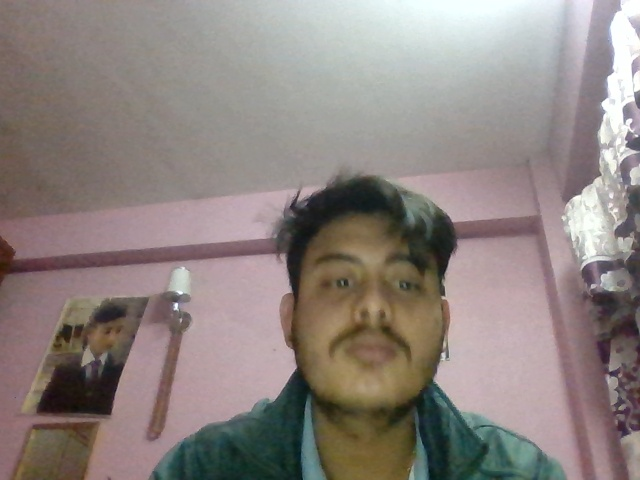no mask: (291, 302, 469, 420)
